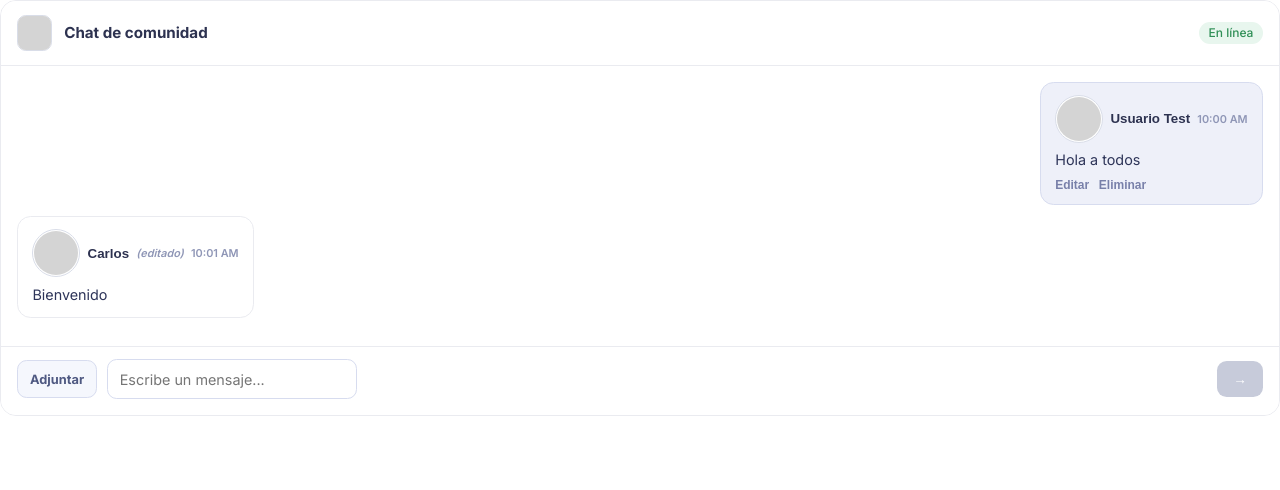
Test: CommunityChat › shows error on delete failure
This screenshot has width=1280, height=490.
Expected: the text "Hola a todos" is shown, left=1055, top=151, right=1140, bottom=168
Click the button "Eliminar" at (1122, 185), box left=1099, top=178, right=1146, bottom=192
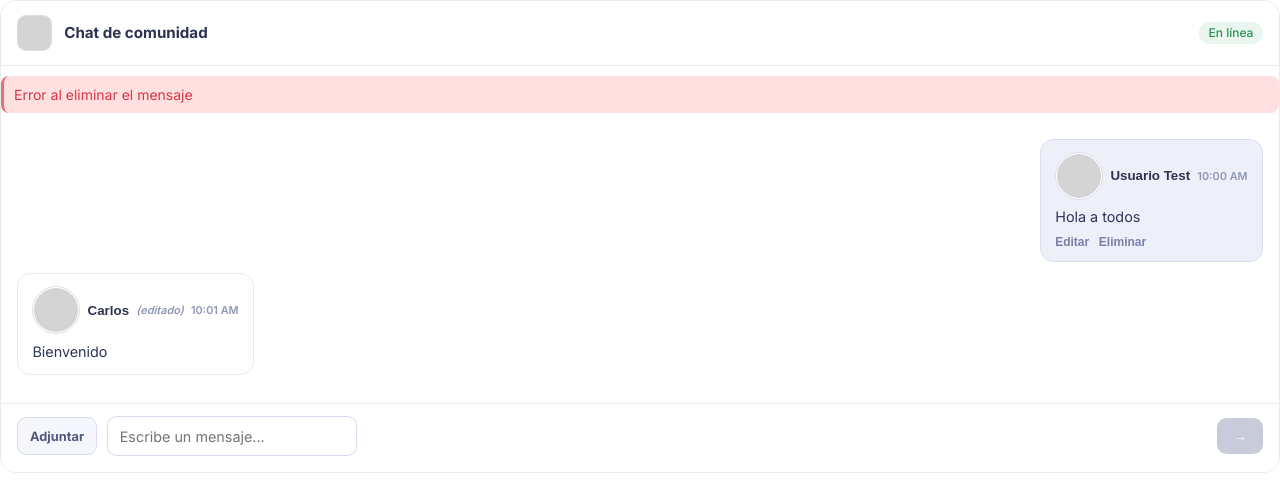
Now the text "Error al eliminar el mensaje" is shown, box left=1, top=76, right=1279, bottom=113
